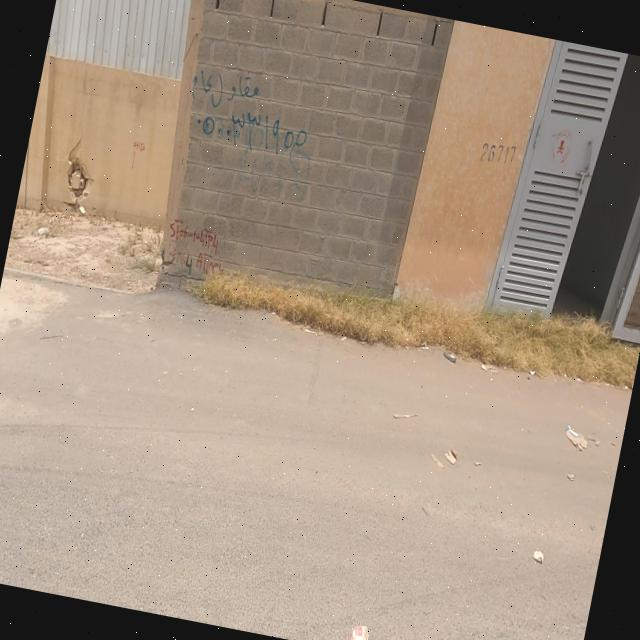Graffiti: (179, 63, 316, 163), (163, 216, 226, 275), (478, 137, 519, 169), (128, 138, 148, 170)
